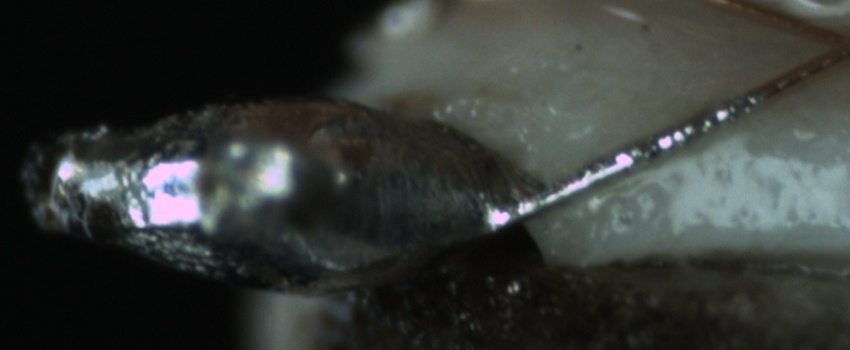CL: (797, 11, 850, 76)
TS: (494, 81, 768, 229)
TTCW: (493, 58, 817, 228)
